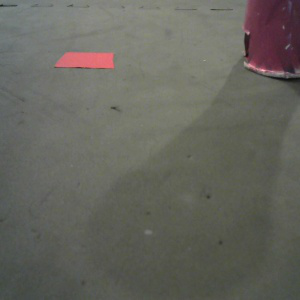right: (241, 1, 300, 83)
